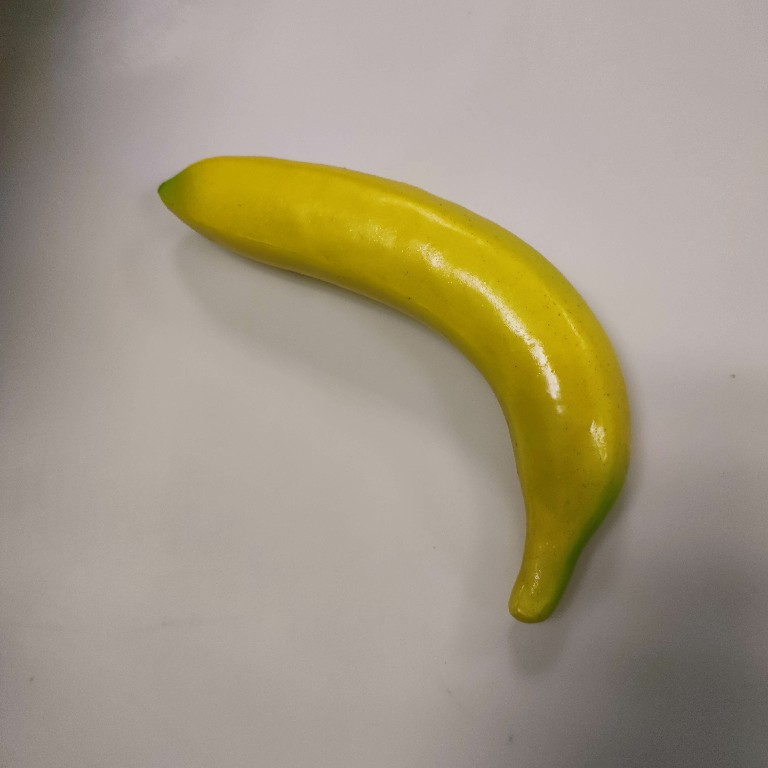fruit_banana: (154, 148, 635, 631)
